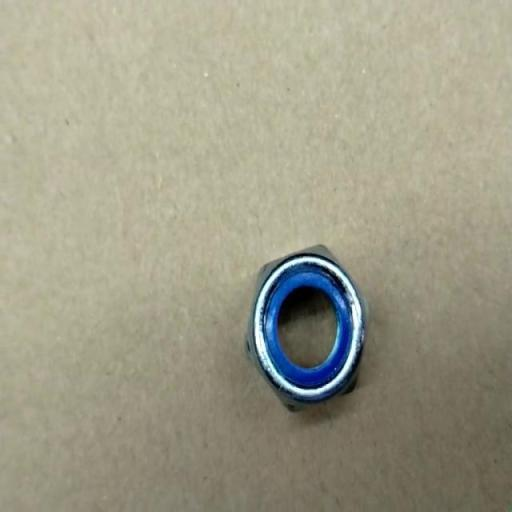Nut: (245, 244, 368, 412)
